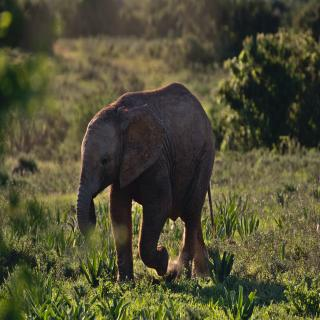Elephant: (75, 78, 222, 284)
